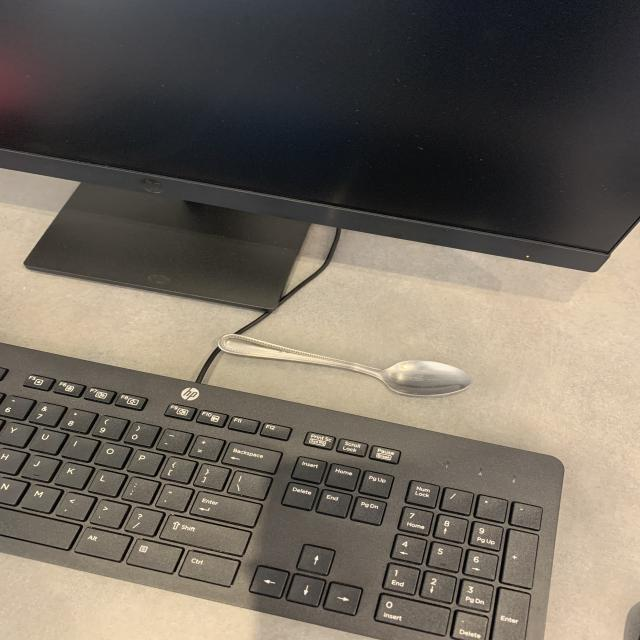Spoon: (209, 326, 476, 407)
